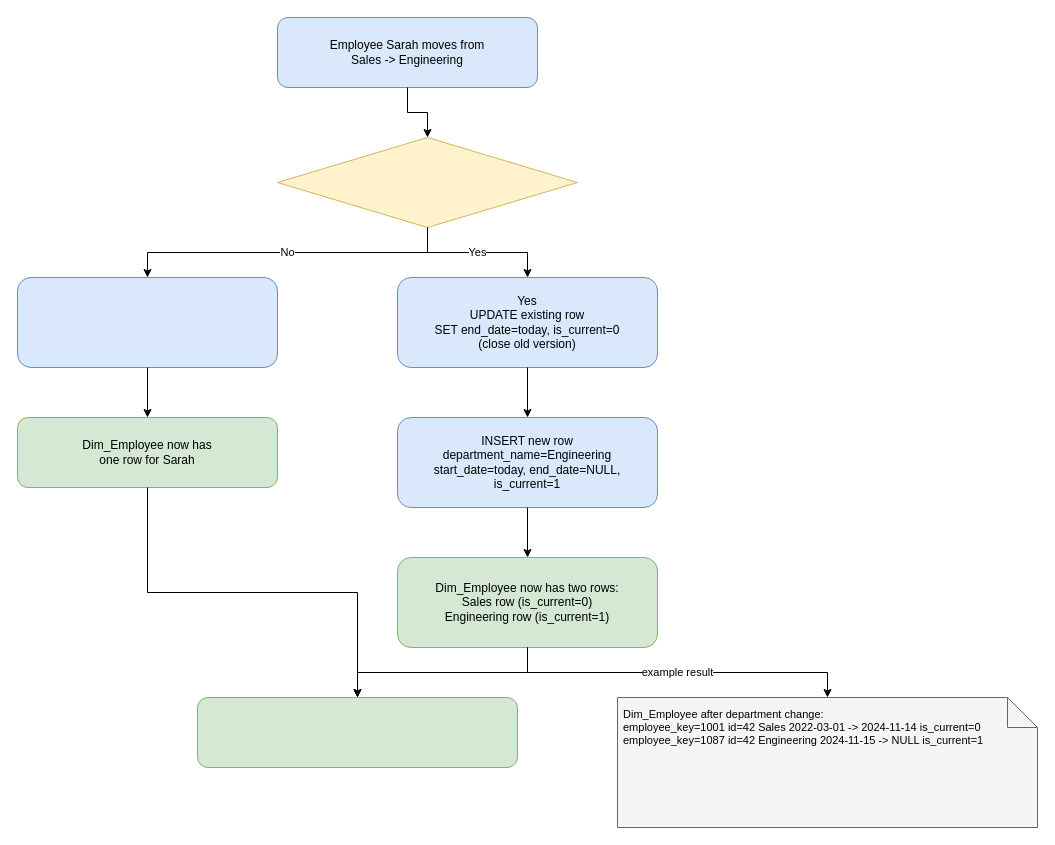
The diagram is 1055 pixels wide and 845 high, and some of its shapes have lost their labels. Each missing label, with the box of its shape:
Any future fact row joins to employee_key where is_current=1: (196, 696, 518, 768)
Does Sarah have a current row in Dim_Employee?: (276, 136, 578, 228)
No (first time) INSERT new row start_date=today, end_date=NULL, is_current=1: (16, 276, 278, 368)
